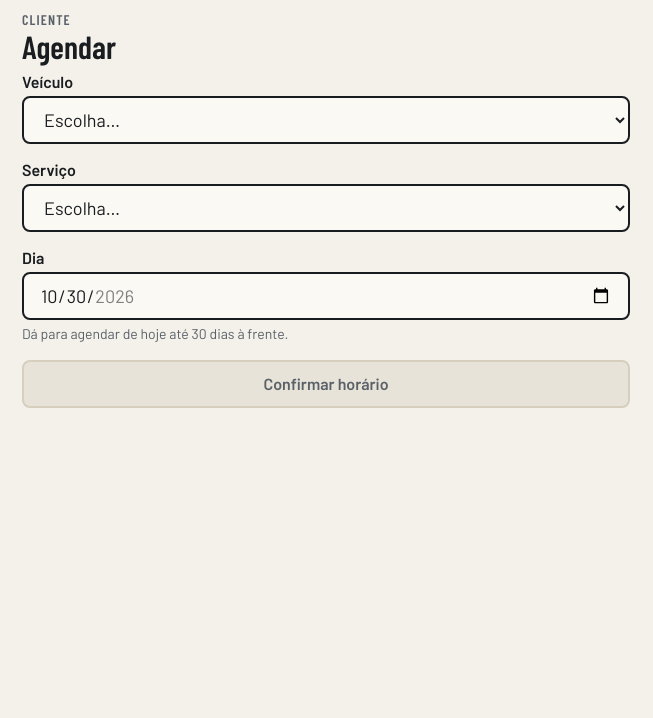
Agendar (cliente) › mostra o resumo com preço e duração e confirma com o horário de Brasília
The image size is (653, 718).
Select "ABC1D23 · Chevrolet Onix" in the dropdown labelled "Veículo" at (326, 120), box [22,96,630,144]
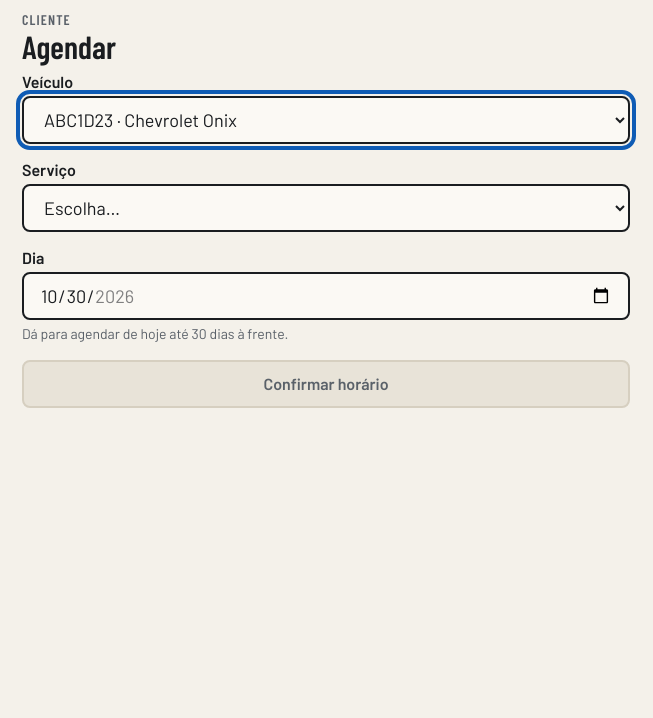
Select "Lavagem completa" in the dropdown labelled "Serviço" at (326, 208), box [22,184,630,232]
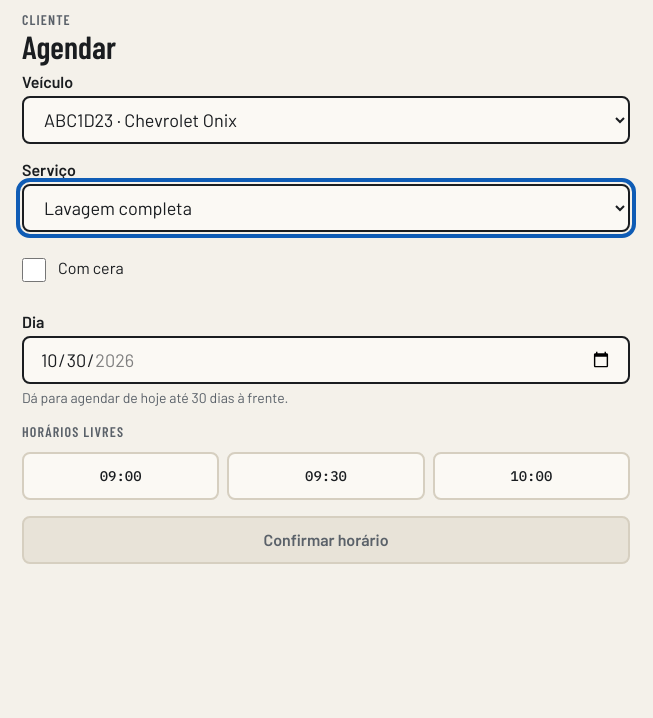
Click the button "09:30" at (326, 476), box [227,452,425,500]
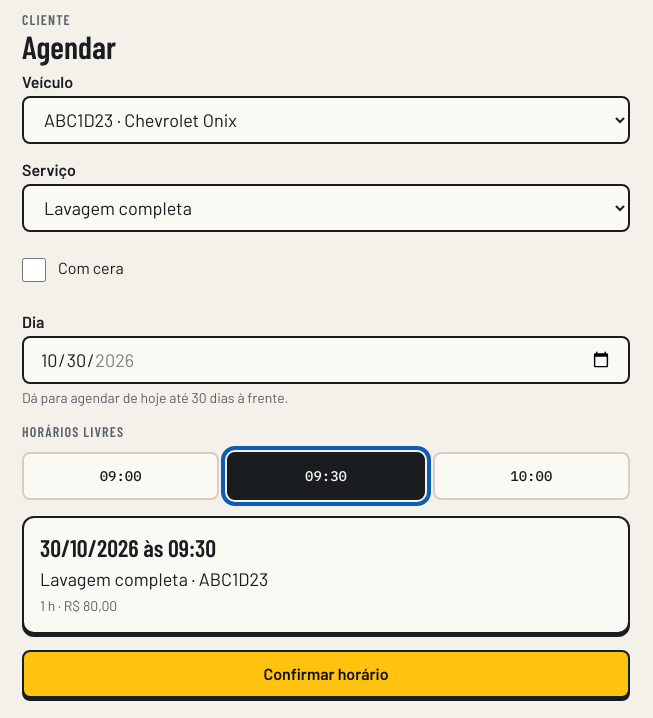
Now the text "1 h · R$ 80,00" is shown, box [40,597,117,614]
Click the button "Confirmar horário" at (326, 674), box [22,650,630,698]
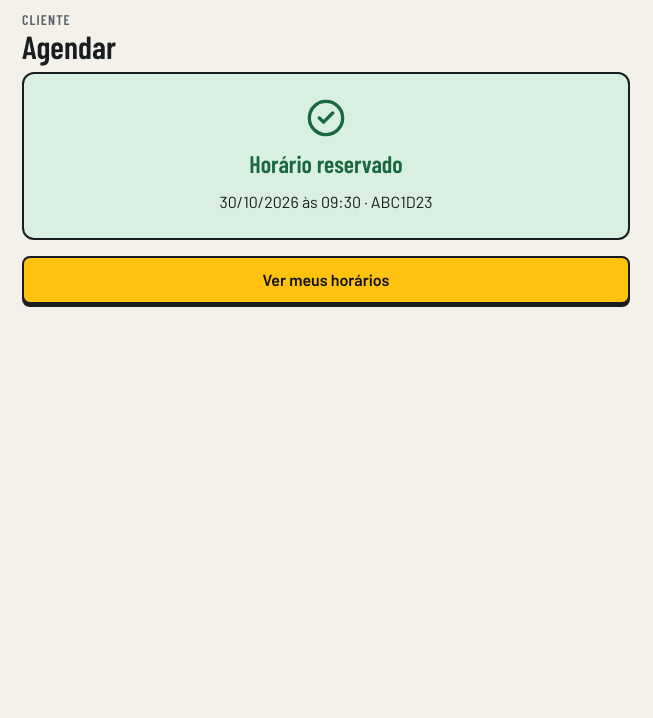
Now the text "Horário reservado" is shown, box [249,150,403,178]
